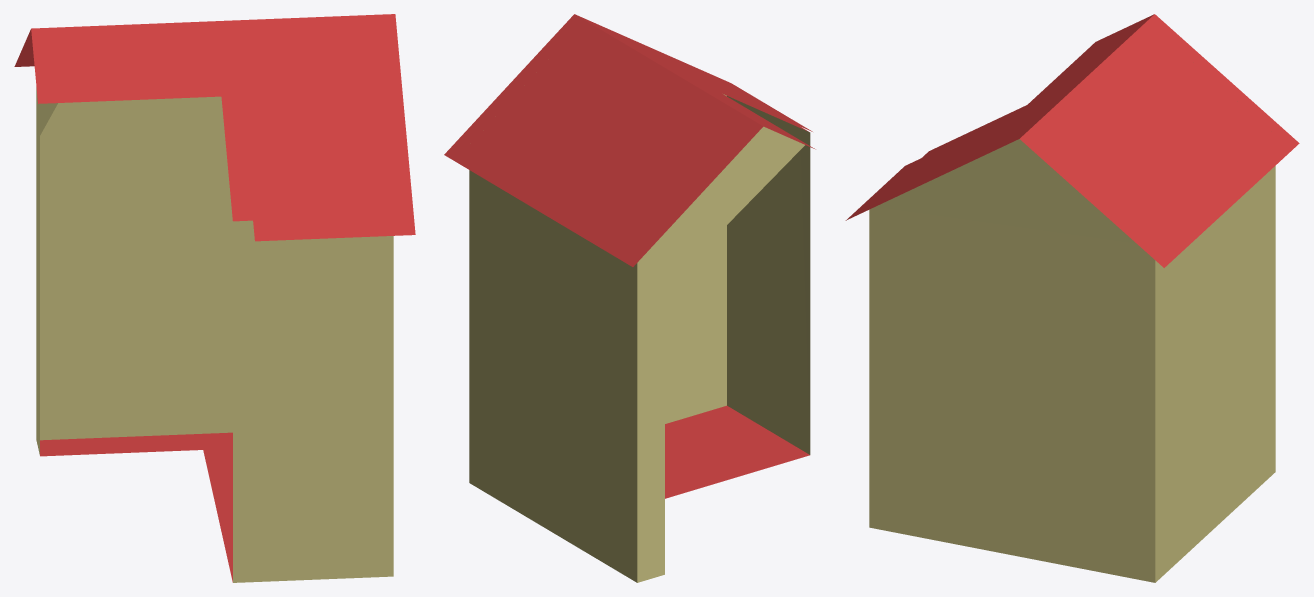
3 renders of one model, left to right at view 1: azimuth 30°, elevation 25°; view 2: azimuth 150°, elevation 25°; view 3: azimuth 270°, elevation 25°, orthographic. The views are drawn at different scales.
Size of the model in its own units: 10.78 by 12.59 by 13.03.
